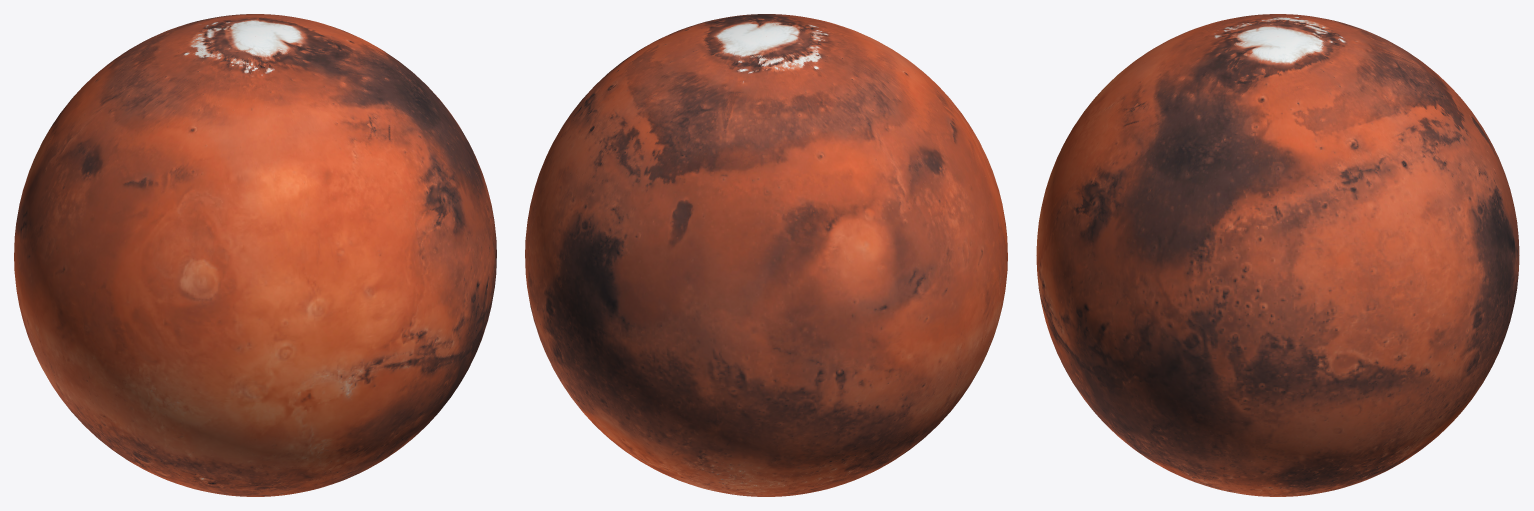
The model's file is mars.gltf.
3 renders of one model, left to right at view 1: azimuth 30°, elevation 25°; view 2: azimuth 150°, elevation 25°; view 3: azimuth 270°, elevation 25°, orthographic.
Visible parts, largest first — view 1: Sphere; view 2: Sphere; view 3: Sphere.
Part boxes in pixels (box(x1,y1,x2,y2)): Sphere: box(14, 14, 496, 496); Sphere: box(525, 14, 1007, 496); Sphere: box(1036, 14, 1519, 496).
Bounding box in the file's own units: 2 × 2 × 2.
1 material, 1 textured.
